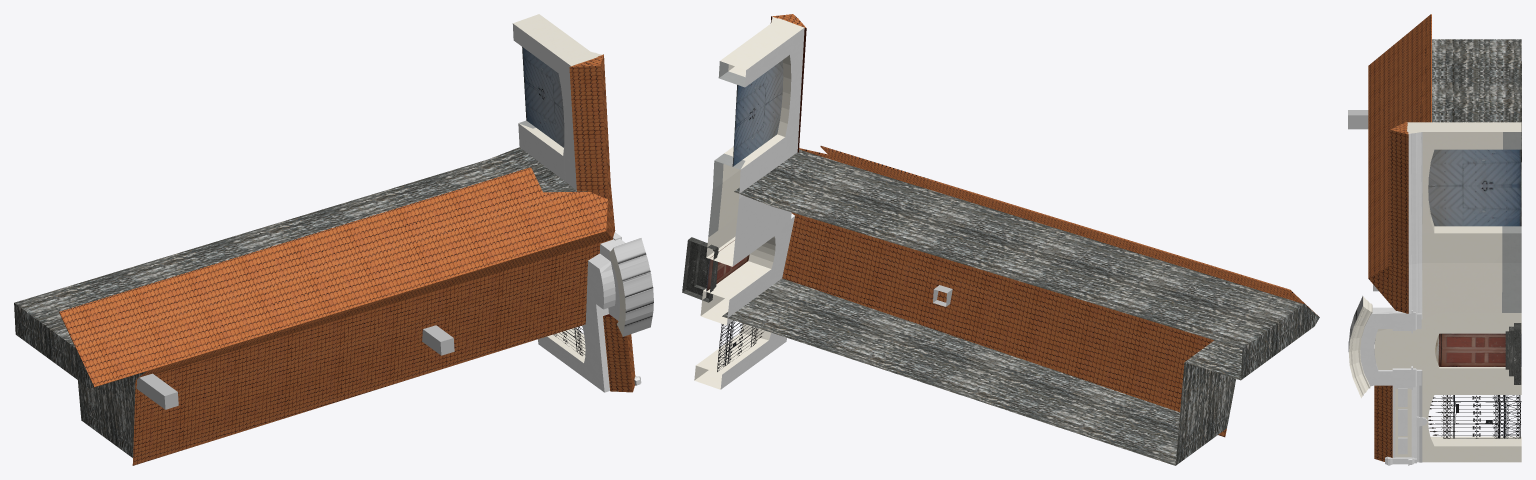
Rendered from Uus_13-2.obj.
The picture shows the model from 3 angles, left to right: view 1: azimuth 30°, elevation 25°; view 2: azimuth 150°, elevation 25°; view 3: azimuth 270°, elevation 25°; orthographic projection. The views are drawn at different scales.
Parts seen in each view (by area): view 1: uus_13_2; view 2: uus_13_2; view 3: uus_13_2.
Boxes of the visible parts, x1,y1,x2,y2 form: uus_13_2: [14, 14, 653, 465]; uus_13_2: [682, 14, 1319, 465]; uus_13_2: [1348, 14, 1521, 465].
Bounding box in the file's own units: 21.24 × 11.9 × 5.83.
